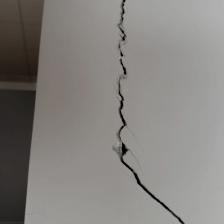Medium: (107, 7, 185, 219)
